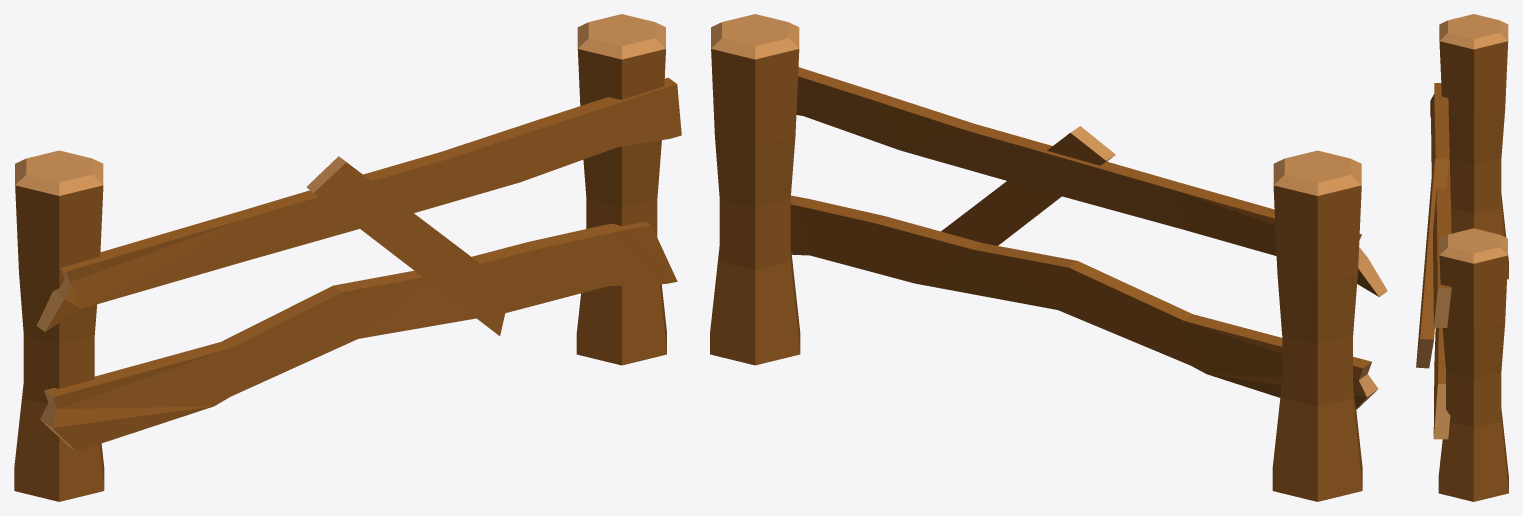
File: Prop_Fence_Wooden_Large_02.fbx
The picture shows the model from 3 angles, left to right: view 1: azimuth 30°, elevation 25°; view 2: azimuth 150°, elevation 25°; view 3: azimuth 270°, elevation 25°; orthographic projection. The views are drawn at different scales.
Visible parts, largest first — view 1: Prop_Fence_Wooden_Large_02; view 2: Prop_Fence_Wooden_Large_02; view 3: Prop_Fence_Wooden_Large_02.
Boxes of the visible parts, x1,y1,x2,y2 form: Prop_Fence_Wooden_Large_02: (14, 14, 681, 501); Prop_Fence_Wooden_Large_02: (710, 14, 1387, 501); Prop_Fence_Wooden_Large_02: (1416, 14, 1508, 501).
Bounding box in the file's own units: 2534 × 1165 × 401.
